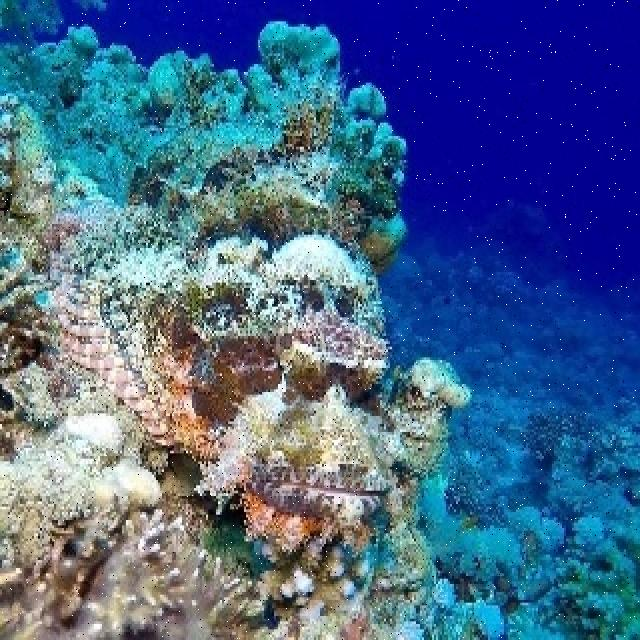reefs: (0, 19, 508, 637)
